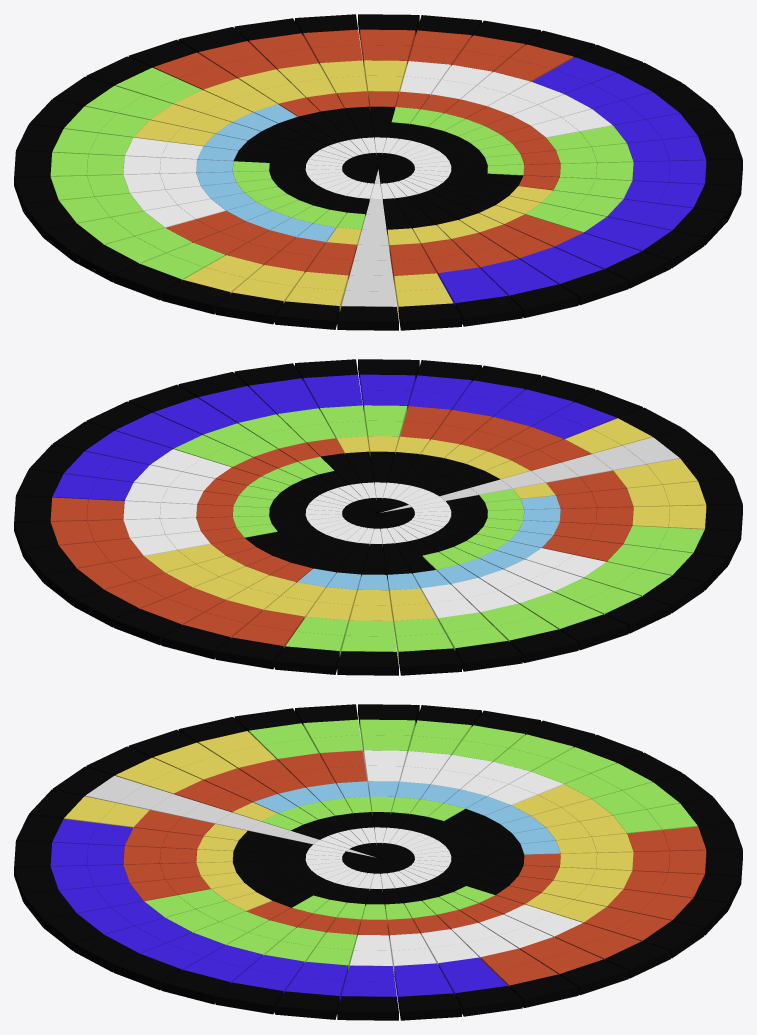
Rendered from Bullseye.glb.
3 renders of one model, top to bottom at view 1: azimuth 30°, elevation 25°; view 2: azimuth 150°, elevation 25°; view 3: azimuth 270°, elevation 25°, orthographic.
Parts seen in each view (by area): view 1: Object019, Object359, Object001, Object349, Object029, Object339, Object039, Object329, Object049, Object319, Object059, Object309 (+168 smaller); view 2: Object119, Object139, Object129, Object109, Object149, Object099, Object159, Object089, Object169, Object079, Object179, Object069 (+168 smaller); view 3: Object239, Object259, Object249, Object229, Object269, Object219, Object279, Object209, Object289, Object199, Object299, Object189 (+168 smaller).
Boxes of the visible parts, <box> form: Object019: <box>275,301,339,329</box>; Object359: <box>398,303,461,330</box>; Object001: <box>337,306,398,330</box>; Object349: <box>455,296,522,326</box>; Object029: <box>215,292,283,324</box>; Object339: <box>509,284,578,317</box>; Object039: <box>161,280,230,314</box>; Object329: <box>560,269,628,305</box>; Object049: <box>113,264,181,300</box>; Object319: <box>605,251,670,288</box>; Object059: <box>74,245,138,282</box>; Object309: <box>643,231,704,268</box>; Object119: <box>398,648,461,675</box>; Object139: <box>275,646,339,674</box>; Object129: <box>337,651,398,675</box>; Object109: <box>455,641,522,671</box>; Object149: <box>215,637,283,669</box>; Object099: <box>509,629,578,662</box>; Object159: <box>161,625,230,659</box>; Object089: <box>560,614,628,650</box>; Object169: <box>113,609,181,645</box>; Object079: <box>605,596,670,633</box>; Object179: <box>74,590,138,627</box>; Object069: <box>643,576,704,613</box>; Object239: <box>398,993,461,1020</box>; Object259: <box>275,991,339,1019</box>; Object249: <box>337,996,398,1020</box>; Object229: <box>455,986,522,1016</box>; Object269: <box>215,982,283,1014</box>; Object219: <box>509,974,578,1007</box>; Object279: <box>161,970,230,1004</box>; Object209: <box>560,959,628,995</box>; Object289: <box>113,954,181,990</box>; Object199: <box>605,941,670,978</box>; Object299: <box>74,935,138,972</box>; Object189: <box>643,921,704,958</box>.
Size of the model in its own units: 1.31 by 0.017 by 1.31.
